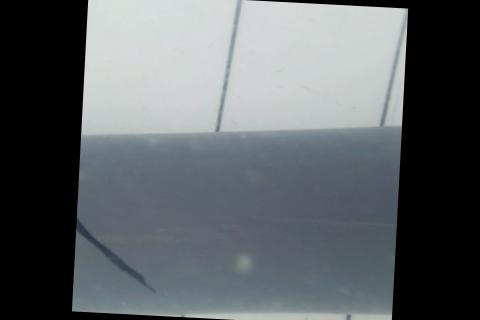keretakan: (73, 192, 165, 296)
